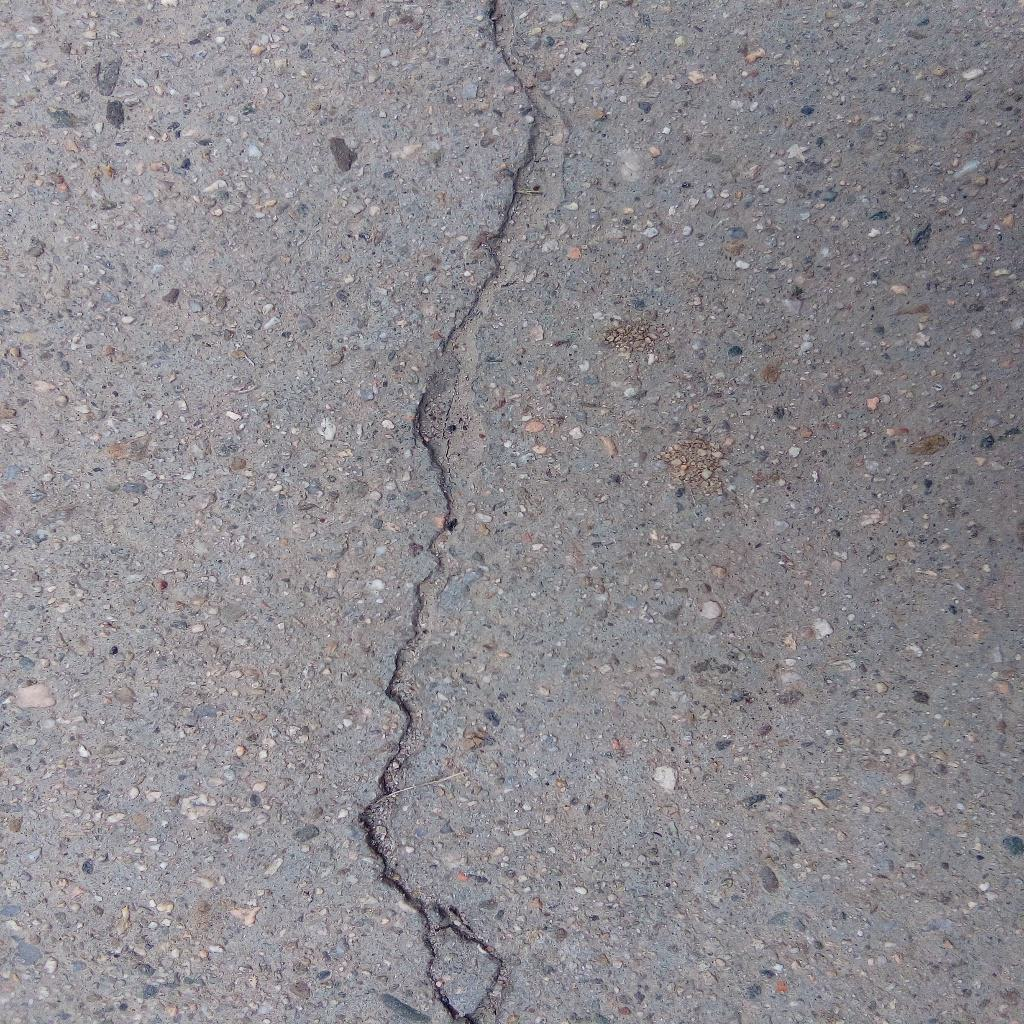Crack: (356, 1, 543, 1024)
